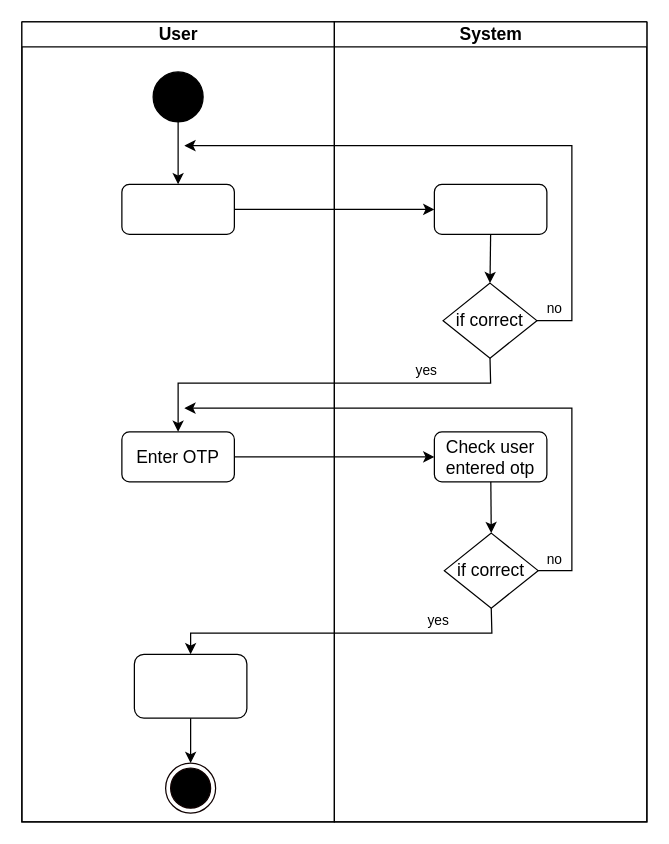
Image size: 669x844. Some labels were removed from this diagram. The centre of each missing label's shape, as x and y in pixels:
Check user credentials: pixel 490 208
User Registration: pixel 177 208
User successfully registered: pixel 190 685
